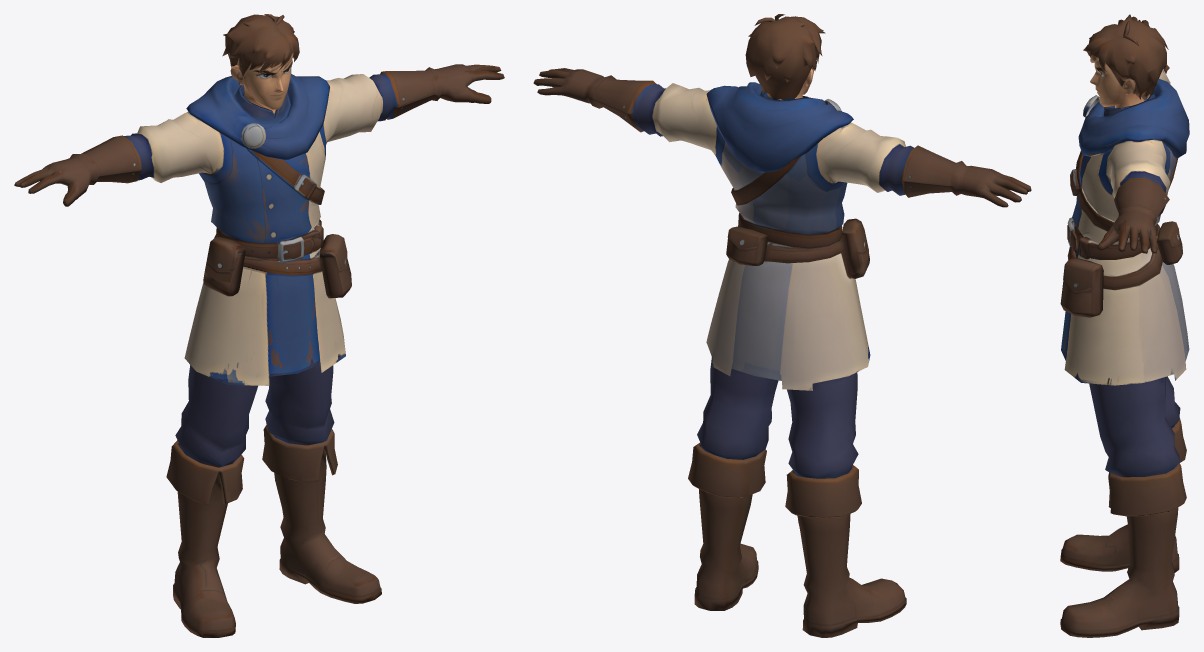
The model's file is fantasy_character_3d_model.fbx.
3 views of the same model, side by side, from view 1: azimuth 30°, elevation 25°; view 2: azimuth 150°, elevation 25°; view 3: azimuth 270°, elevation 25° (orthographic). The views are drawn at different scales.
Parts seen in each view (by area): view 1: tripo_3c57c4aa_7b0a_4a92_aec5_539a26101cdc; view 2: tripo_3c57c4aa_7b0a_4a92_aec5_539a26101cdc; view 3: tripo_3c57c4aa_7b0a_4a92_aec5_539a26101cdc.
Boxes of the visible parts, <box> form: tripo_3c57c4aa_7b0a_4a92_aec5_539a26101cdc: <box>14,14,504,637</box>; tripo_3c57c4aa_7b0a_4a92_aec5_539a26101cdc: <box>533,14,1031,637</box>; tripo_3c57c4aa_7b0a_4a92_aec5_539a26101cdc: <box>1060,14,1189,637</box>.
Bounding box in the file's own units: 0.8657 × 0.9995 × 0.2046.
1 material, 1 textured.
